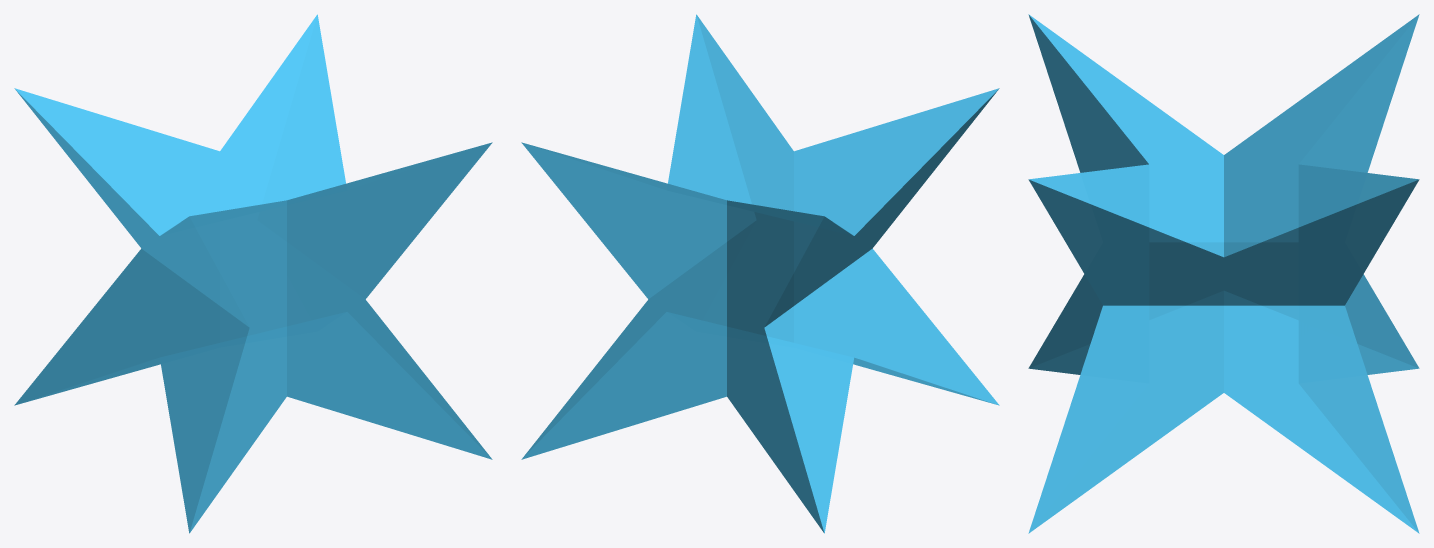
The model's file is ConcaveDodecahedron.obj.
3 views of the same model, side by side, from view 1: azimuth 30°, elevation 25°; view 2: azimuth 150°, elevation 25°; view 3: azimuth 270°, elevation 25° (orthographic). The views are drawn at different scales.
Bounding box in the file's own units: 1.62 × 1.62 × 1.62.
